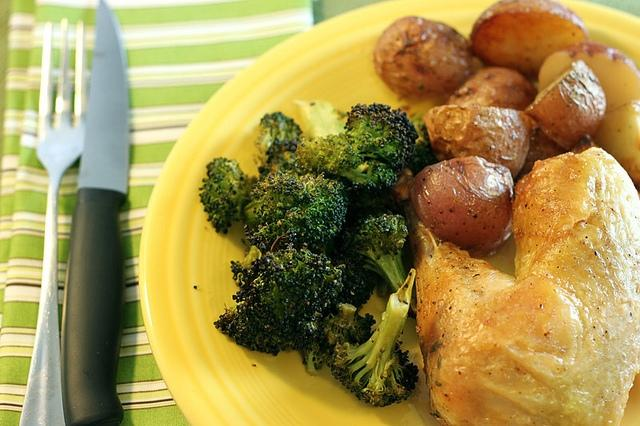broccoli: (212, 244, 348, 356), (326, 268, 419, 407), (245, 171, 348, 250), (333, 202, 408, 293), (343, 102, 419, 173), (198, 157, 258, 235), (318, 303, 376, 354), (340, 160, 398, 204), (259, 111, 303, 151)
potato: (408, 156, 514, 260), (468, 0, 590, 82), (374, 16, 474, 102), (423, 105, 532, 180), (524, 59, 607, 151), (538, 42, 640, 113), (592, 100, 640, 186), (448, 67, 539, 110)
